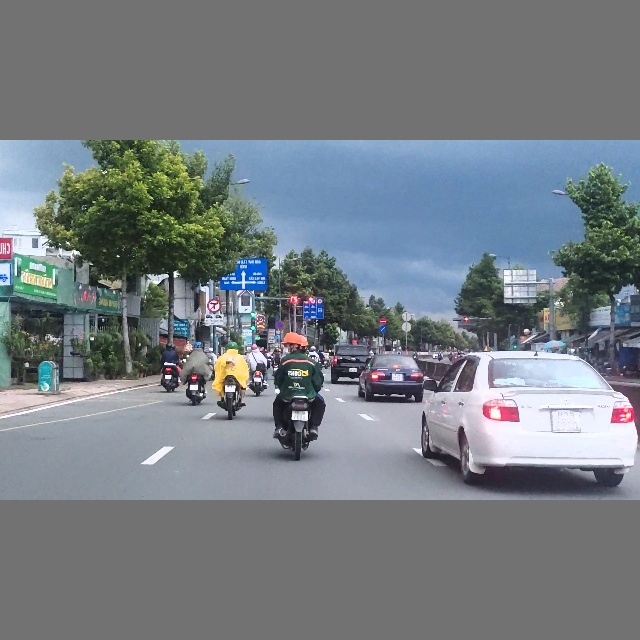P.102: (380, 318, 386, 325)
P.131a: (276, 321, 284, 329)
P.137: (207, 299, 221, 313)
R.302a: (379, 326, 387, 332)
R.415a: (303, 303, 323, 319)
